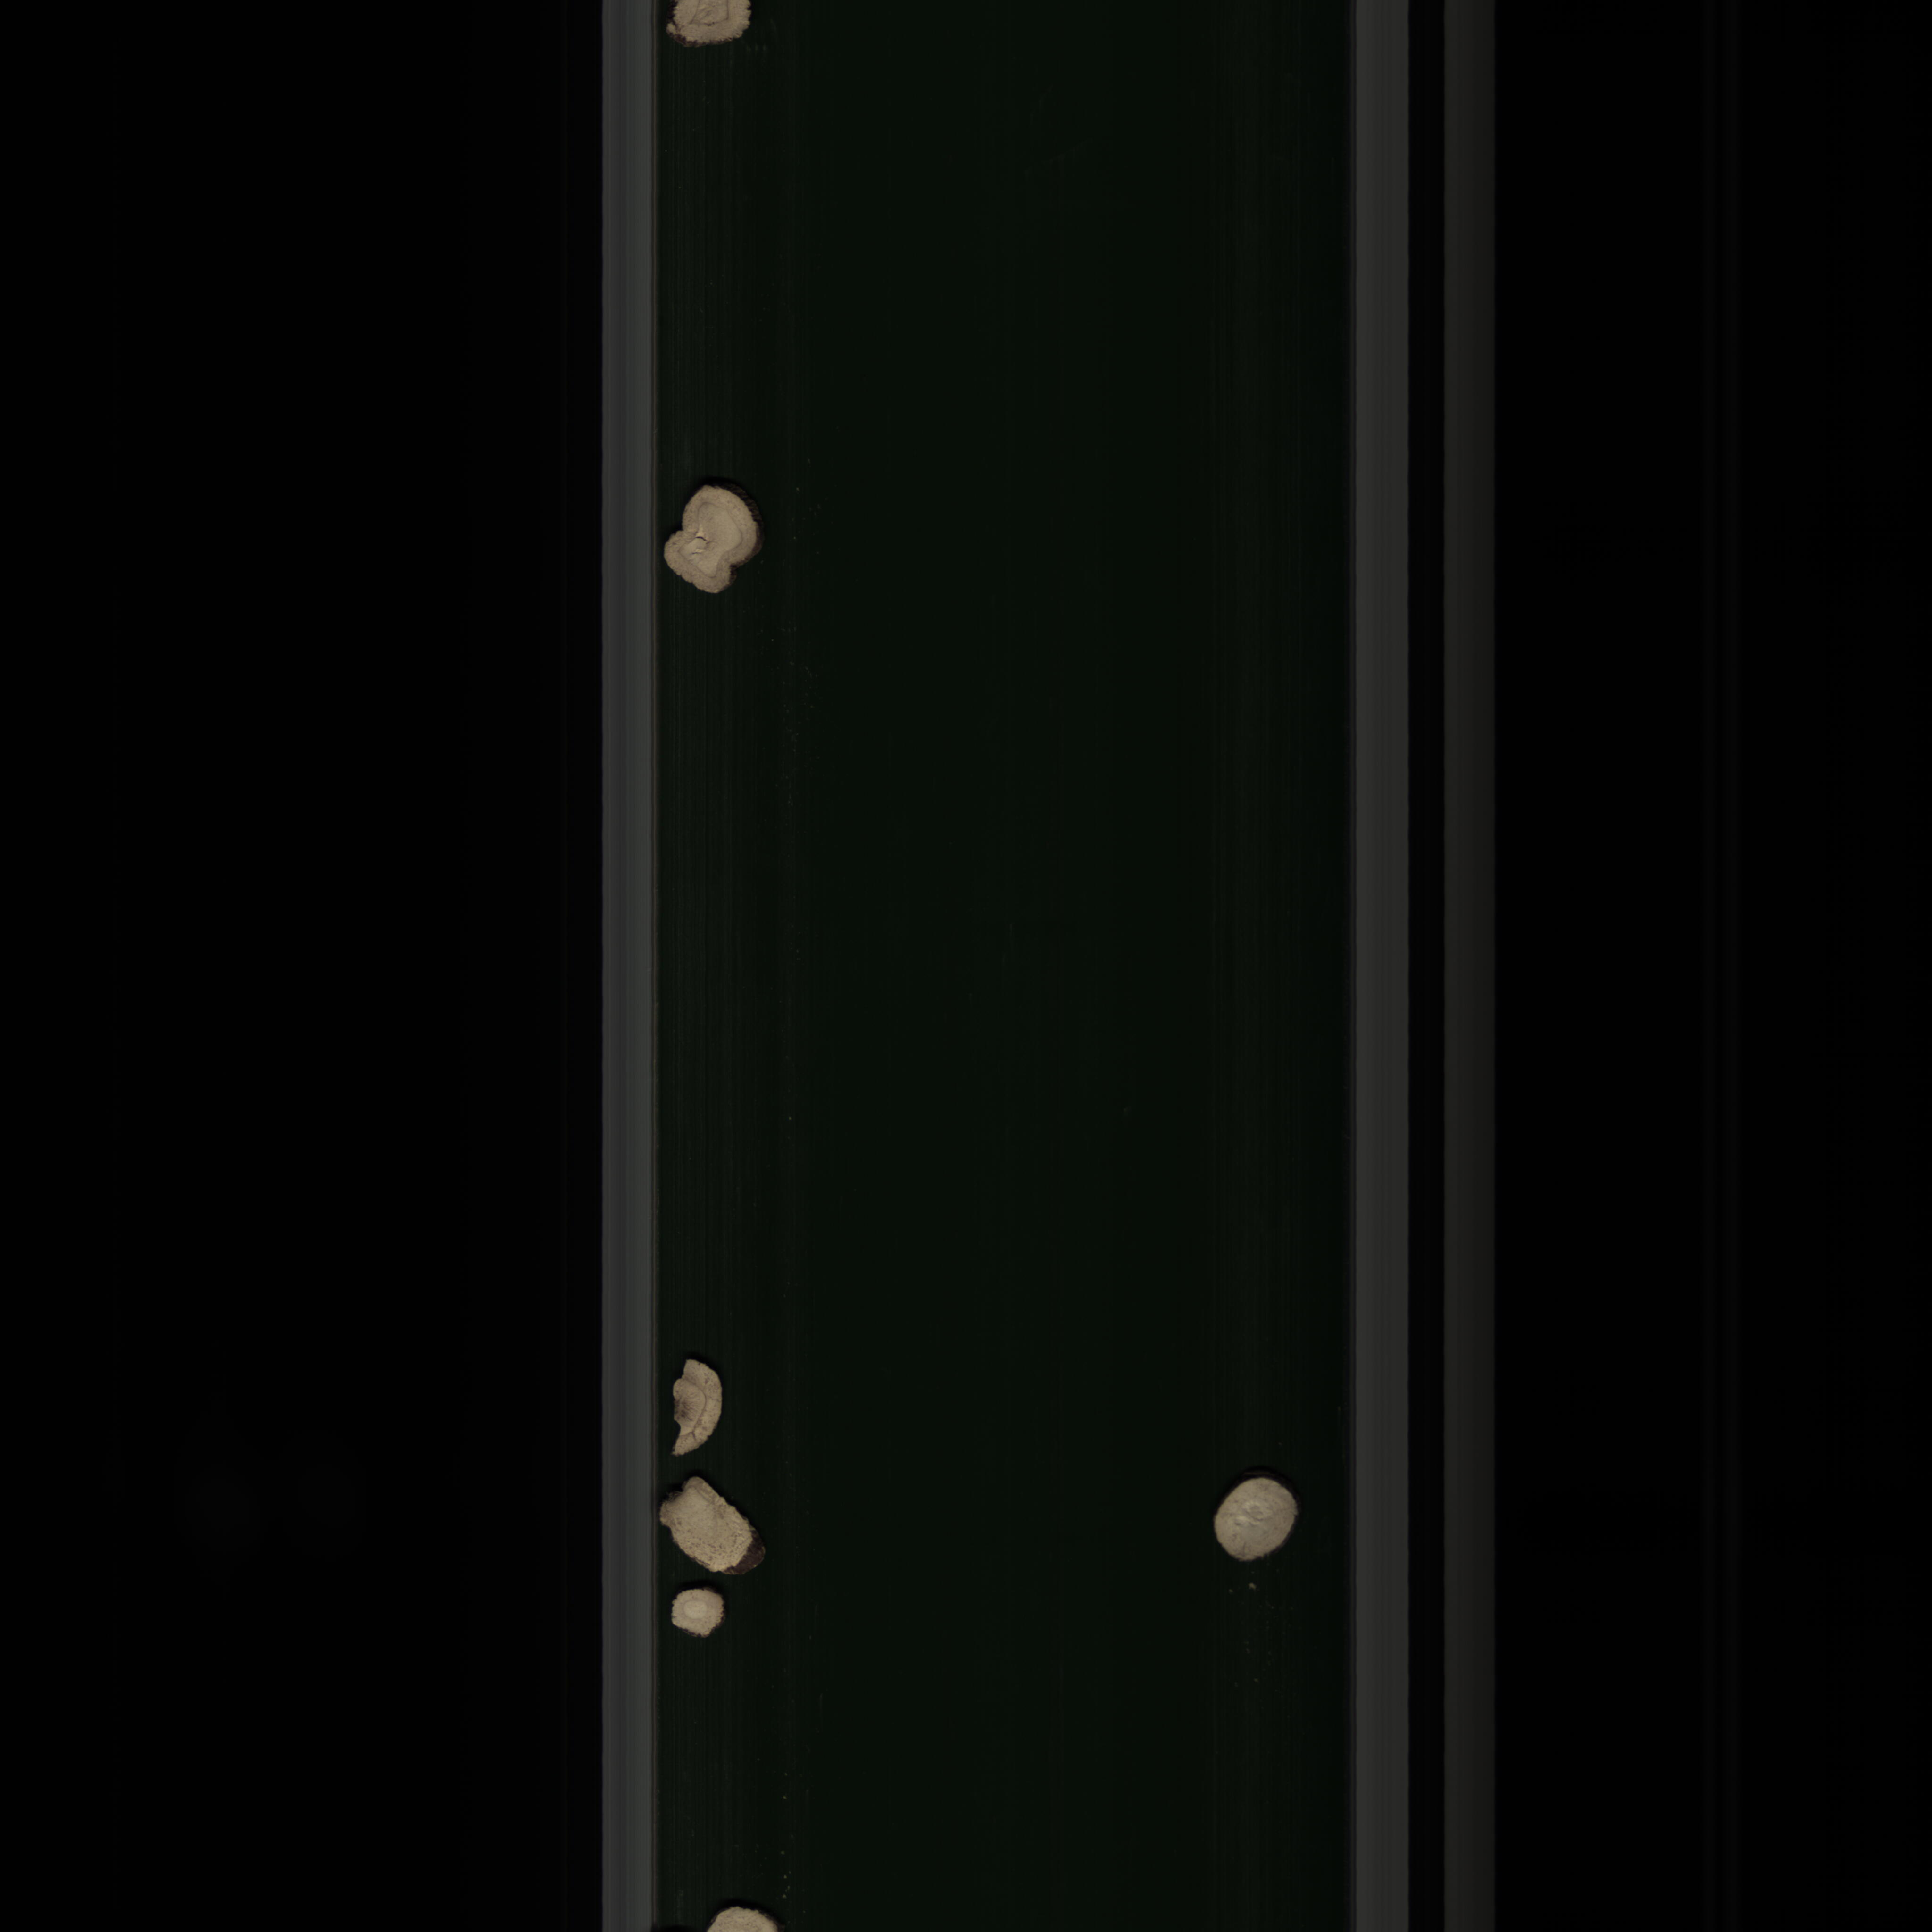debris: (663, 1352, 736, 1461)
distortion: (660, 458, 764, 614), (656, 1476, 773, 1583)
